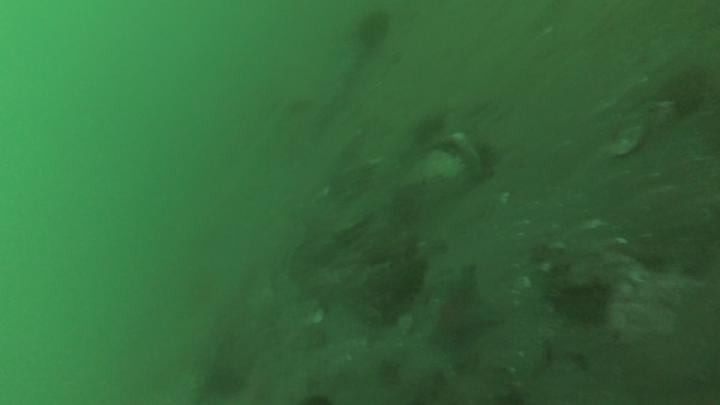starfish: (422, 273, 501, 360)
